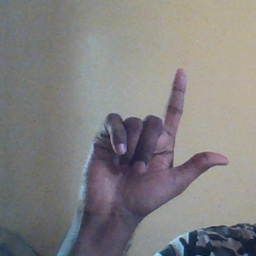L: (77, 67, 230, 214)
